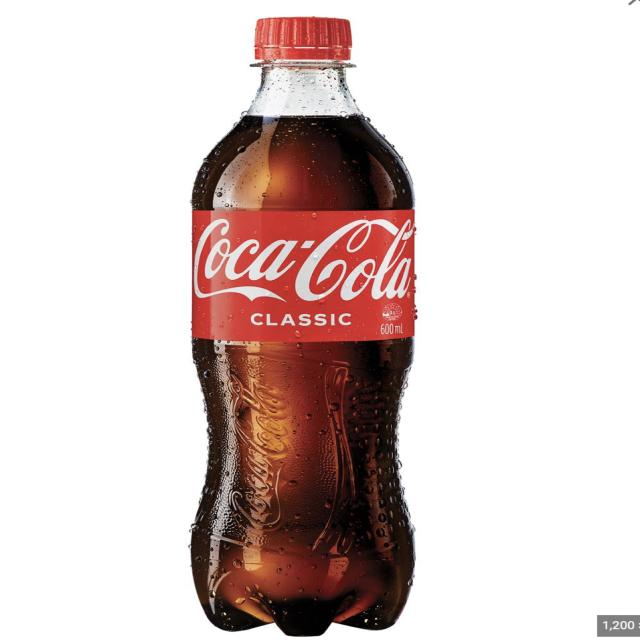recyclable: (158, 6, 440, 638)
